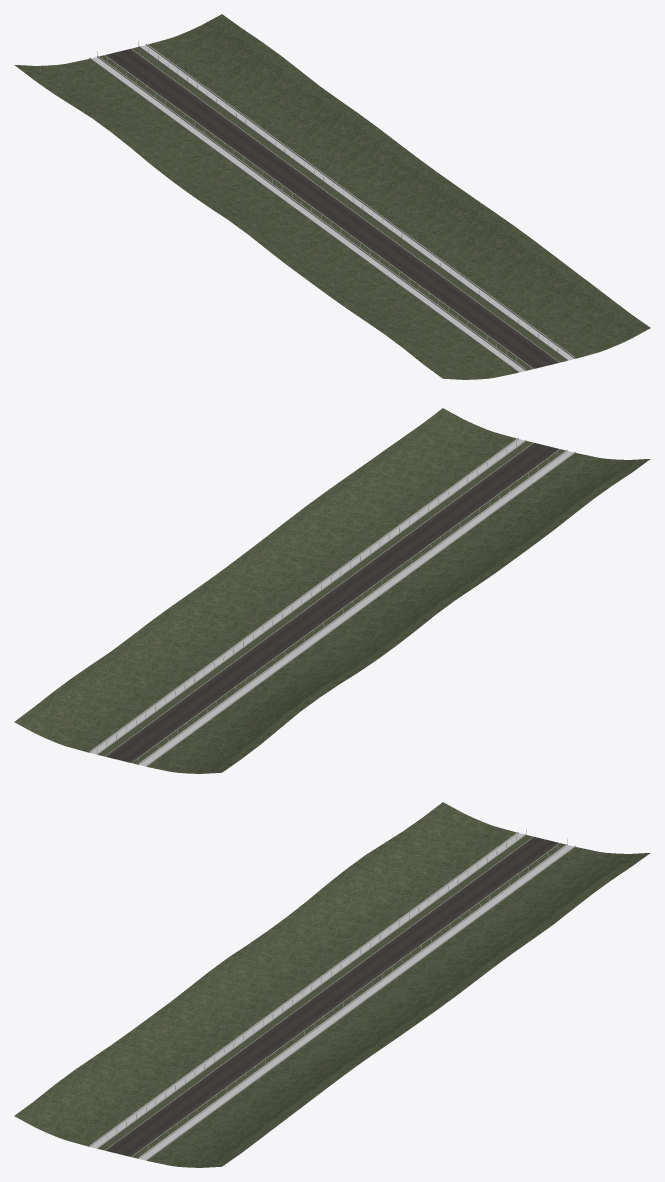
3 views of the same model, one above another, from view 1: azimuth 30°, elevation 25°; view 2: azimuth 150°, elevation 25°; view 3: azimuth 330°, elevation 25° (orthographic).
Parts seen in each view (by area): view 1: Grass_Grass.006, Road_Road.006, Track_Track.016; view 2: Grass_Grass.006, Road_Road.006, Track_Track.016; view 3: Grass_Grass.006, Road_Road.006, Track_Track.016.
Boxes of the visible parts, box(x1,y1,x2,y2) form: Grass_Grass.006: box(14, 14, 650, 379); Road_Road.006: box(105, 48, 559, 368); Track_Track.016: box(89, 41, 575, 372); Grass_Grass.006: box(14, 408, 650, 773); Road_Road.006: box(105, 442, 559, 762); Track_Track.016: box(89, 437, 575, 766); Grass_Grass.006: box(14, 802, 650, 1167); Road_Road.006: box(105, 836, 559, 1156); Track_Track.016: box(89, 829, 575, 1160).
Bounding box in the file's own units: 140 × 10.38 × 500.
